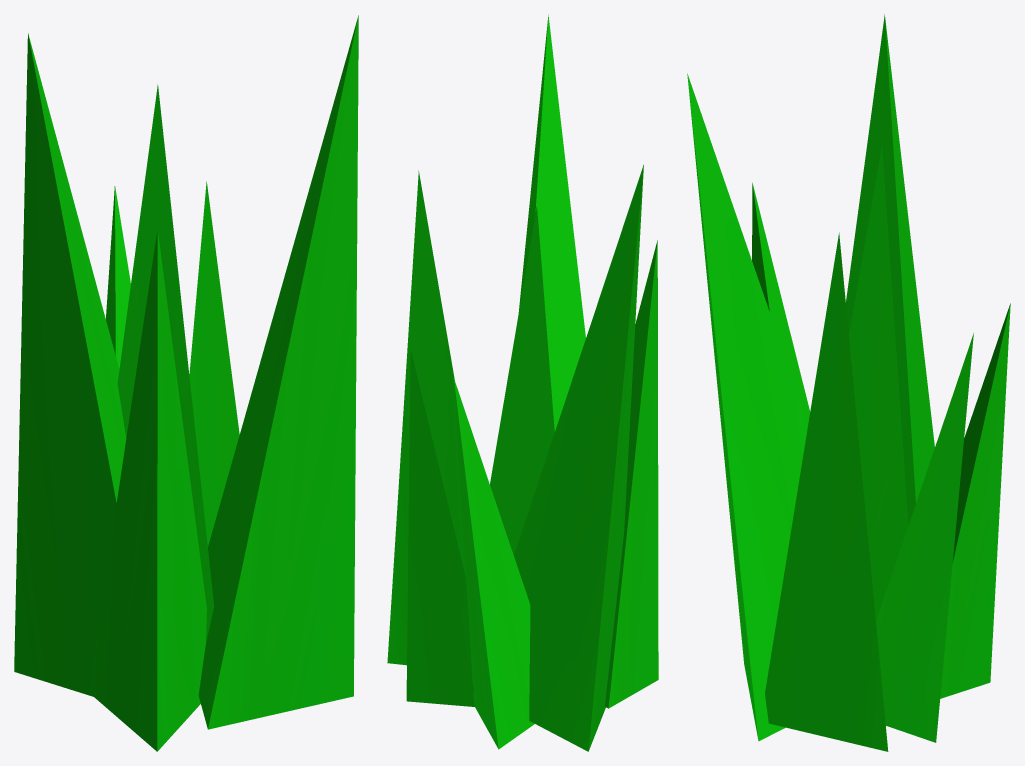
Rendered from CIMEN_TEKLI.fbx.
3 views of the same model, side by side, from view 1: azimuth 30°, elevation 25°; view 2: azimuth 150°, elevation 25°; view 3: azimuth 270°, elevation 25° (orthographic). The views are drawn at different scales.
Parts seen in each view (by area): view 1: Cone.002; view 2: Cone.002; view 3: Cone.002.
Part boxes in pixels (x1,y1,x2,y2): Cone.002: (14, 15, 358, 751); Cone.002: (387, 14, 658, 751); Cone.002: (687, 14, 1010, 751).
Size of the model in its own units: 34 by 77.79 by 34.68.
